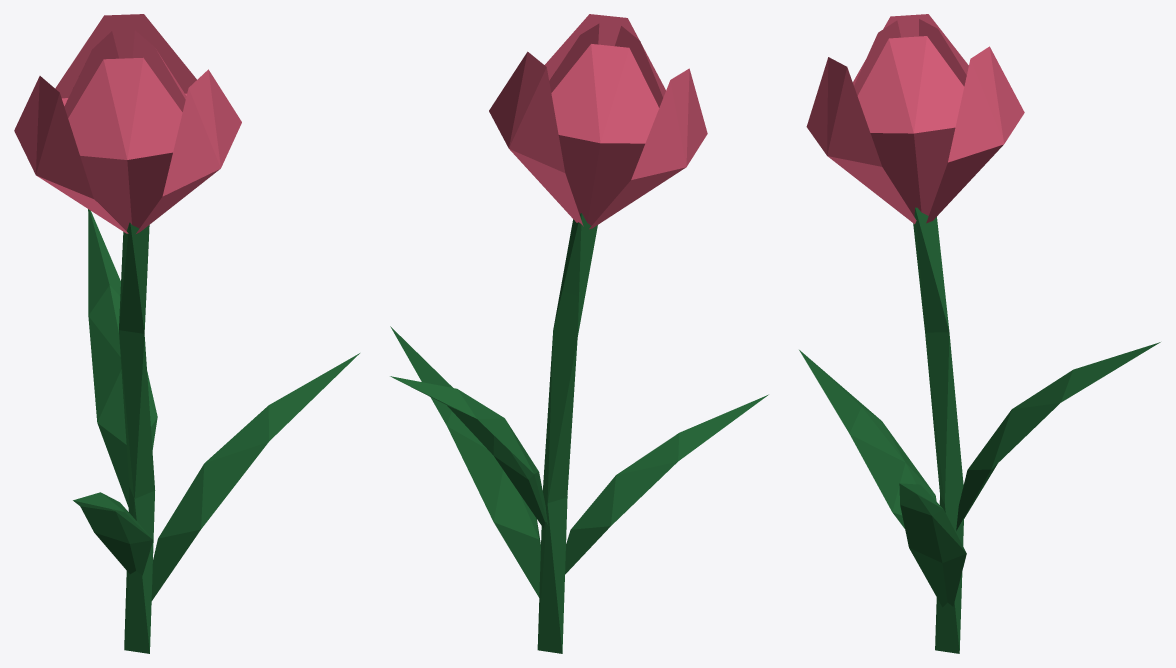
File: Hilly_Prop_Flower_Lily_Pink.obj
The picture shows the model from 3 angles, left to right: view 1: azimuth 30°, elevation 25°; view 2: azimuth 150°, elevation 25°; view 3: azimuth 270°, elevation 25°; orthographic projection. The views are drawn at different scales.
Visible parts, largest first — view 1: object6, object5, object1, object2, object4; view 2: object6, object5, object1, object4, object2; view 3: object6, object5, object2, object4, object1.
Boxes of the visible parts, box(x1,y1,x2,y2) form: object6: box(14, 14, 241, 233); object5: box(119, 222, 155, 653); object1: box(151, 353, 359, 600); object2: box(88, 209, 157, 506); object4: box(73, 492, 153, 575); object6: box(489, 14, 707, 229); object5: box(537, 213, 597, 653); object1: box(390, 326, 540, 597); object4: box(565, 394, 768, 574); object2: box(390, 376, 548, 528); object6: box(806, 14, 1024, 224); object5: box(913, 207, 963, 653); object2: box(956, 342, 1160, 530); object4: box(799, 350, 936, 528); object1: box(899, 483, 966, 607).
Bounding box in the file's own units: 0.3275 × 0.5799 × 0.3152.
